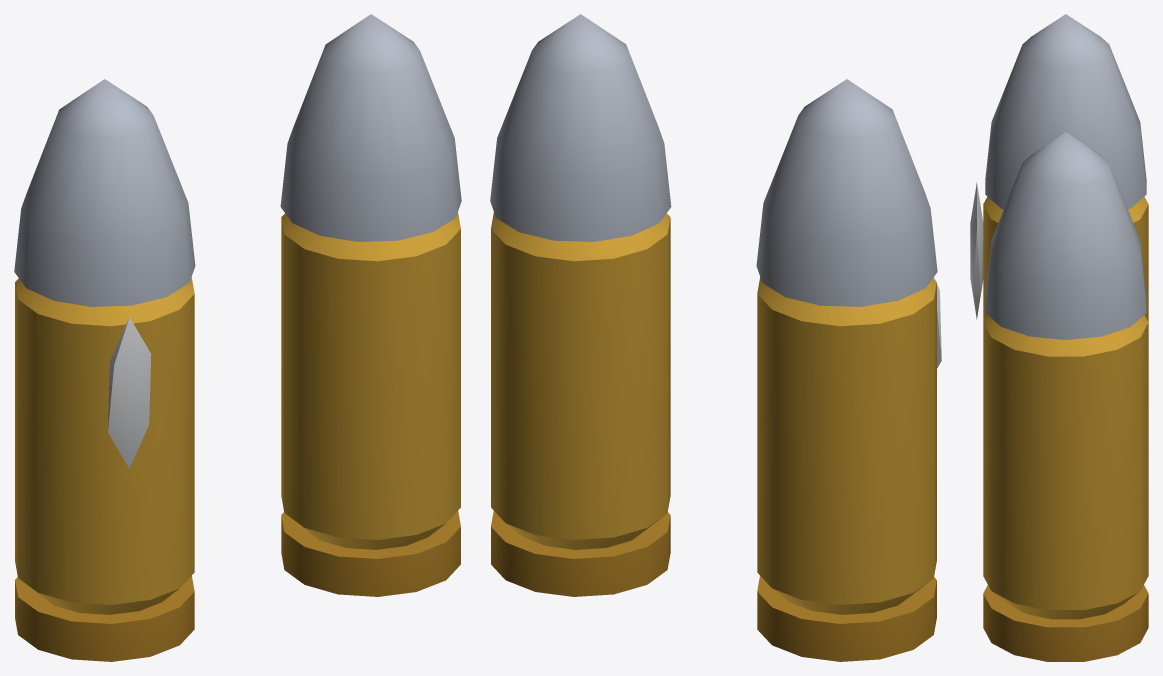
The model's file is ui_bullet.glb.
3 renders of one model, left to right at view 1: azimuth 30°, elevation 25°; view 2: azimuth 150°, elevation 25°; view 3: azimuth 270°, elevation 25°, orthographic. The views are drawn at different scales.
Visible parts, largest first — view 1: body; view 2: body; view 3: body.
Boxes of the visible parts, x1,y1,x2,y2 form: body: [14, 14, 461, 661]; body: [490, 14, 941, 661]; body: [970, 14, 1148, 661].
Bounding box in the file's own units: 0.35 × 0.43 × 0.1401.
